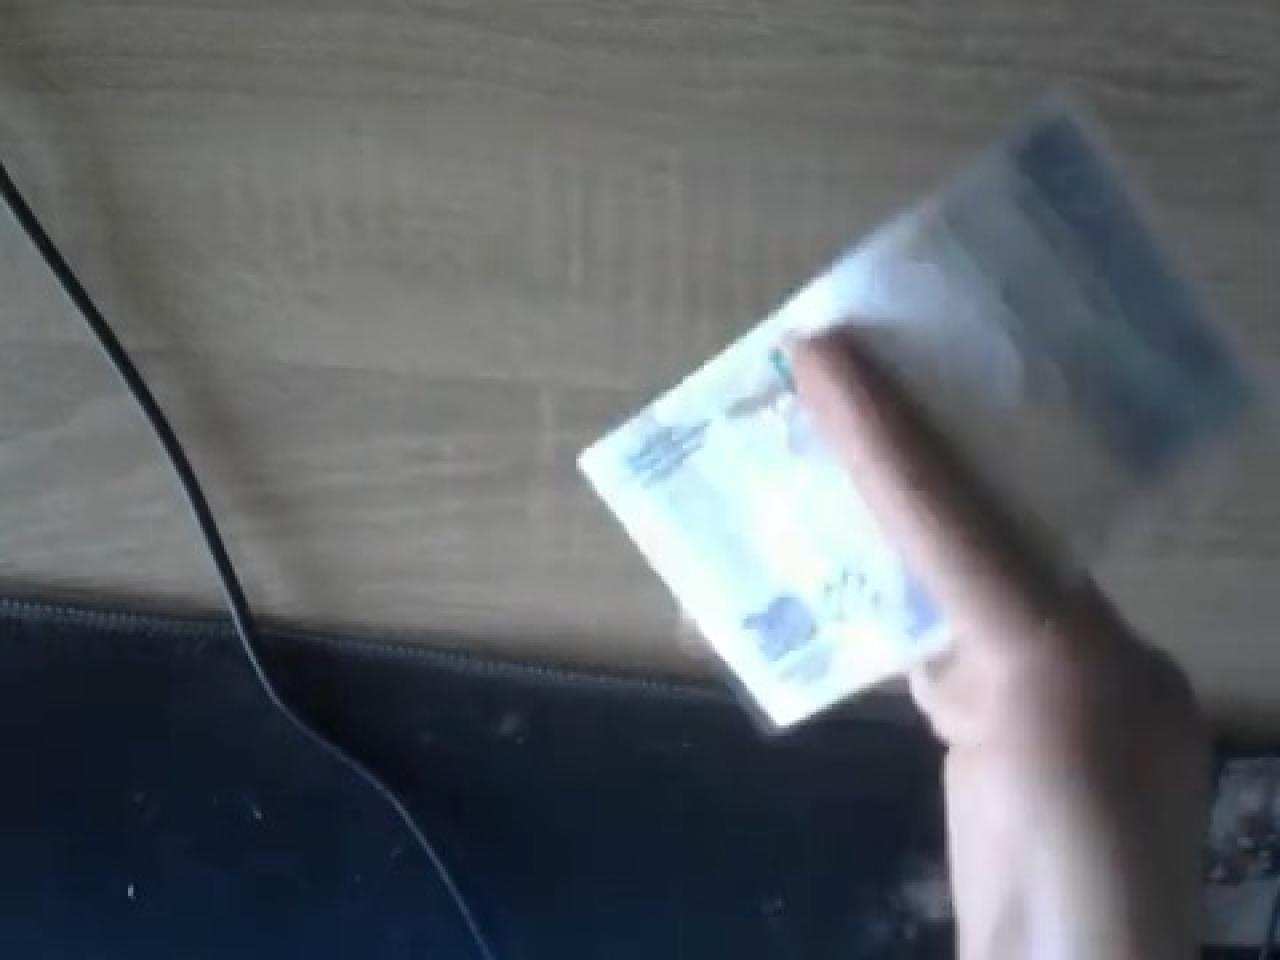20leva: (577, 288, 957, 733)
